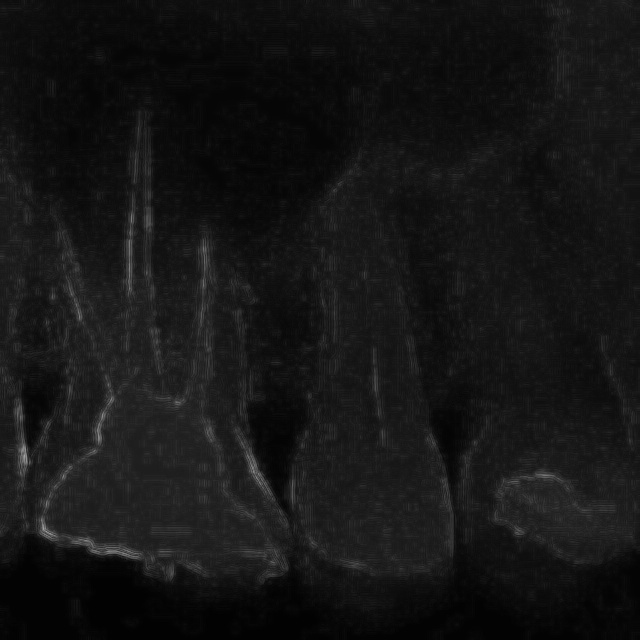Class 0- No endodontic treatment: (3, 92, 314, 602)
Class 2- incomplete endodontic treatment: (391, 117, 640, 619)
